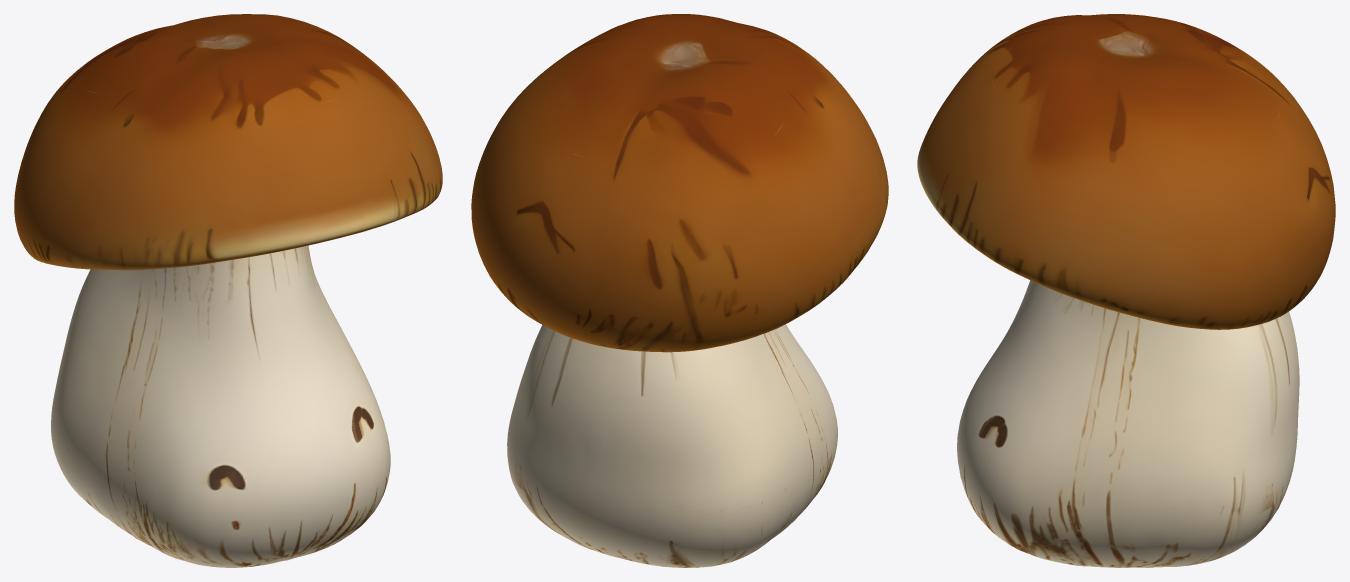
File: normalsmushroom.glb
3 views of the same model, side by side, from view 1: azimuth 30°, elevation 25°; view 2: azimuth 150°, elevation 25°; view 3: azimuth 270°, elevation 25° (orthographic). The views are drawn at different scales.
Visible parts, largest first — view 1: Object_2; view 2: Object_2; view 3: Object_2.
Part boxes in pixels (x1=…): Object_2: x1=14, y1=14, x2=442, y2=567; Object_2: x1=471, y1=14, x2=888, y2=567; Object_2: x1=917, y1=14, x2=1335, y2=567.
Bounding box in the file's own units: 1.47 × 1.89 × 1.44.
Materials: 1 (1 with a texture image).
